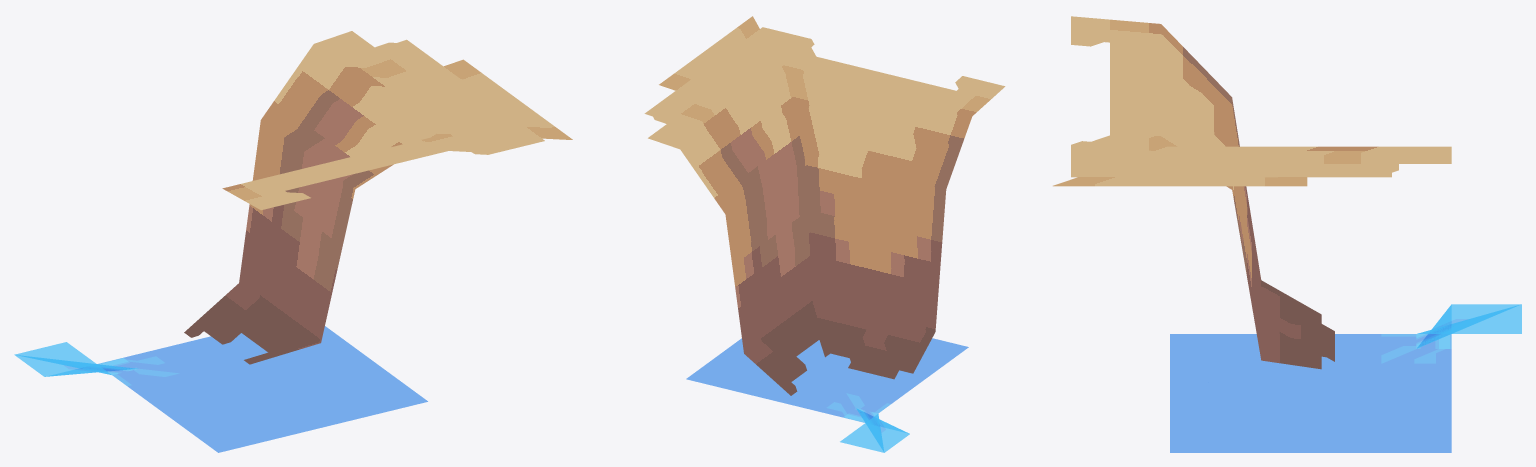
The model's file is hgss-berge-angle-rentrant-court.glb.
3 renders of one model, left to right at view 1: azimuth 30°, elevation 25°; view 2: azimuth 150°, elevation 25°; view 3: azimuth 270°, elevation 25°, orthographic. The views are drawn at different scales.
Size of the model in its own units: 0.8486 by 0.627 by 0.8486.
Materials: 2 (2 with a texture image).
